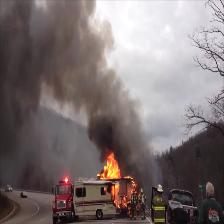fire: (99, 156, 122, 178)
smoke: (41, 4, 101, 101), (1, 8, 41, 112), (90, 105, 140, 149)
